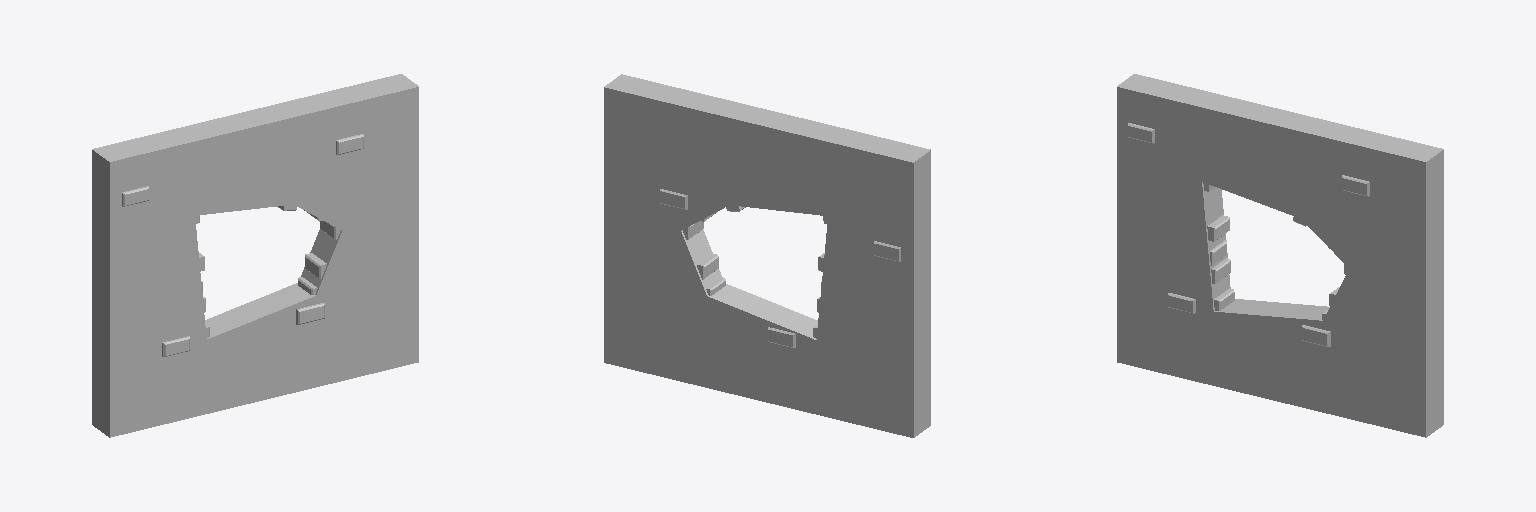
File: wall_01.obj
3 renders of one model, left to right at view 1: azimuth 30°, elevation 25°; view 2: azimuth 150°, elevation 25°; view 3: azimuth 330°, elevation 25°, orthographic.
Visible parts, largest first — view 1: Cube.002; view 2: Cube.002; view 3: Cube.002.
Boxes of the visible parts, <box> form: Cube.002: <box>92,74,418,437</box>; Cube.002: <box>604,74,930,437</box>; Cube.002: <box>1117,74,1443,437</box>.
Bounding box in the file's own units: 2 × 1.7 × 0.234.